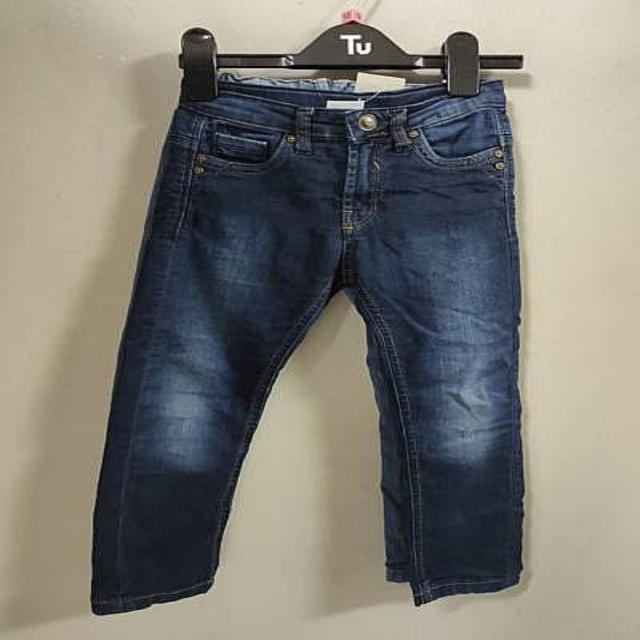TROUSER: (77, 42, 570, 625)
